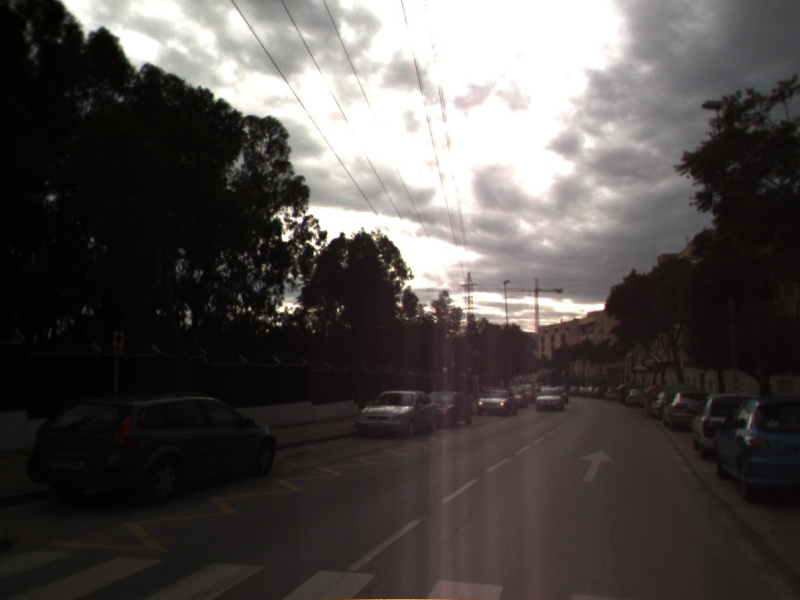STRAIGHT: (578, 448, 617, 484)
